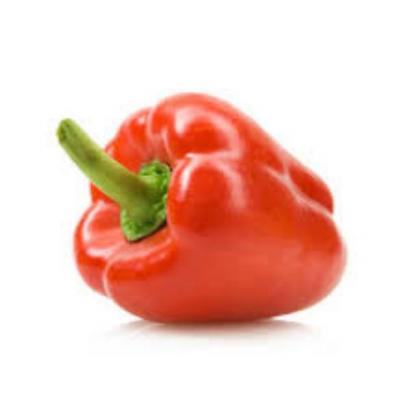bell pepper: (46, 89, 370, 337)
